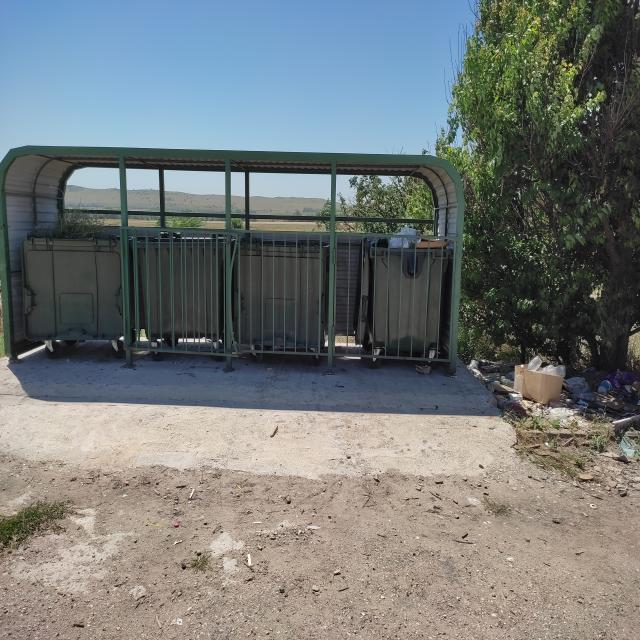bin: (22, 232, 125, 359), (425, 249, 442, 358), (412, 249, 428, 357), (361, 236, 375, 355), (399, 248, 415, 352), (386, 248, 402, 350), (373, 248, 388, 356), (148, 237, 161, 347), (160, 232, 172, 347), (308, 239, 320, 352), (439, 249, 453, 345), (296, 239, 307, 347), (285, 240, 296, 347), (137, 236, 148, 340), (173, 232, 183, 346), (252, 237, 262, 350), (320, 242, 330, 352), (263, 240, 273, 349), (353, 237, 363, 346), (274, 240, 284, 346), (241, 237, 250, 344), (186, 237, 194, 338), (129, 236, 136, 344), (218, 234, 224, 349), (232, 240, 238, 344), (205, 237, 211, 340), (199, 237, 205, 338), (212, 234, 217, 348), (182, 237, 186, 339), (194, 237, 198, 339), (225, 237, 227, 348), (309, 355, 323, 367), (366, 358, 381, 369), (150, 351, 164, 361), (249, 353, 263, 363), (231, 236, 236, 261), (421, 361, 436, 368), (213, 355, 224, 361), (213, 351, 224, 353)
trash: (469, 355, 640, 431), (393, 226, 421, 235), (415, 364, 432, 374), (376, 237, 389, 247), (416, 238, 429, 248), (390, 237, 402, 247), (403, 238, 415, 248), (430, 239, 442, 248), (443, 240, 452, 248), (371, 238, 375, 247)
